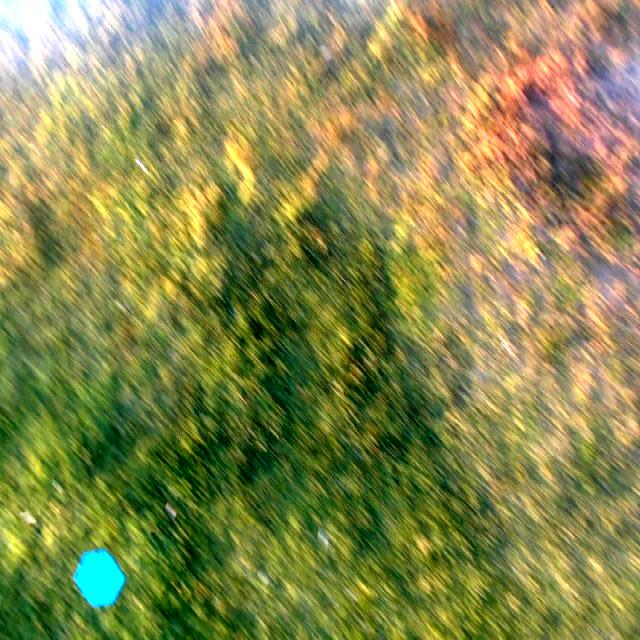blue_hexagon: (76, 553, 124, 610)
